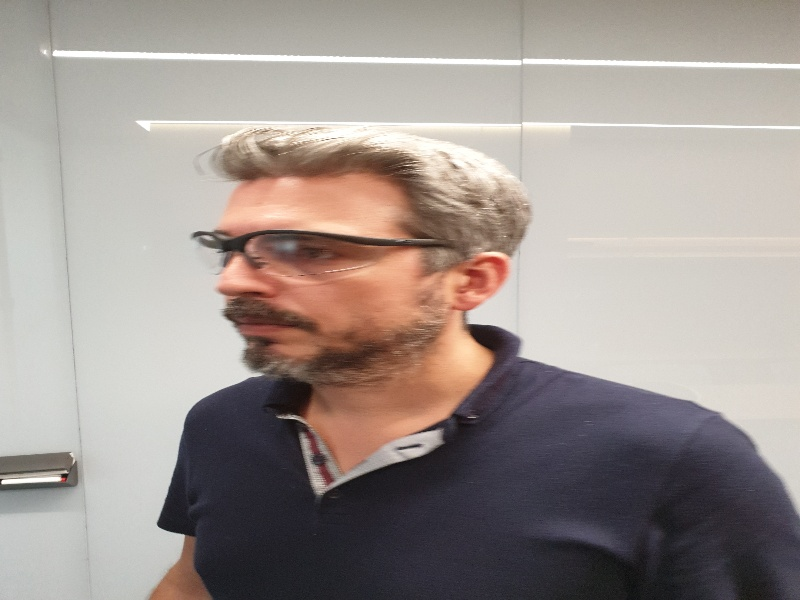Gozluk: (186, 225, 463, 286)
